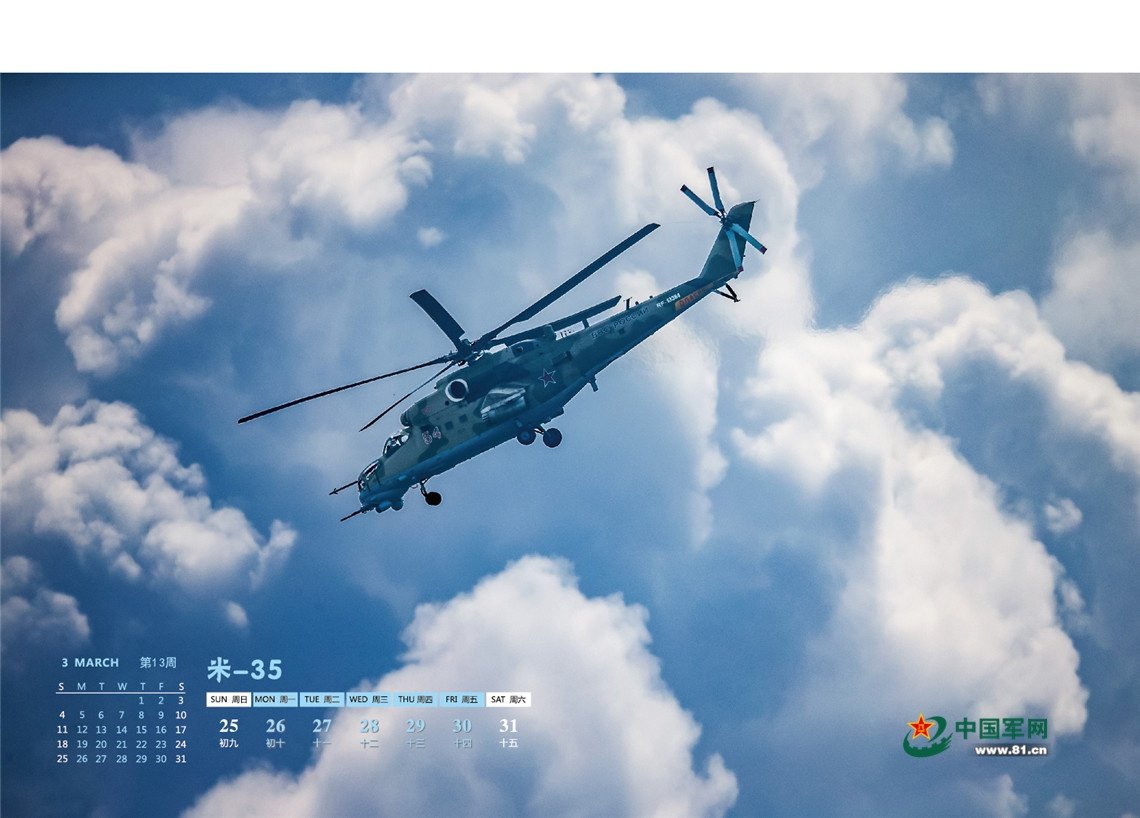airplane: (225, 161, 776, 550)
